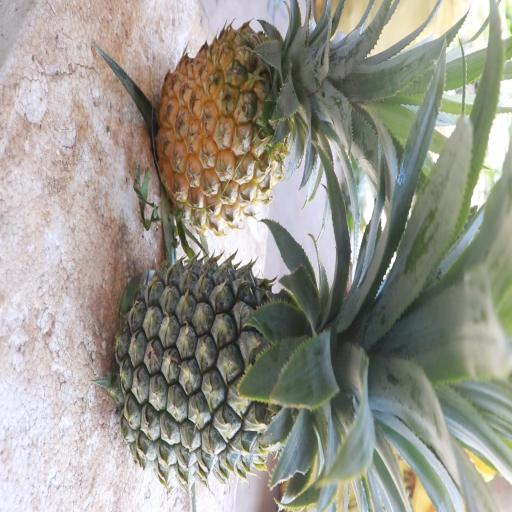Pineapple - v8 v1: (164, 12, 428, 228)
